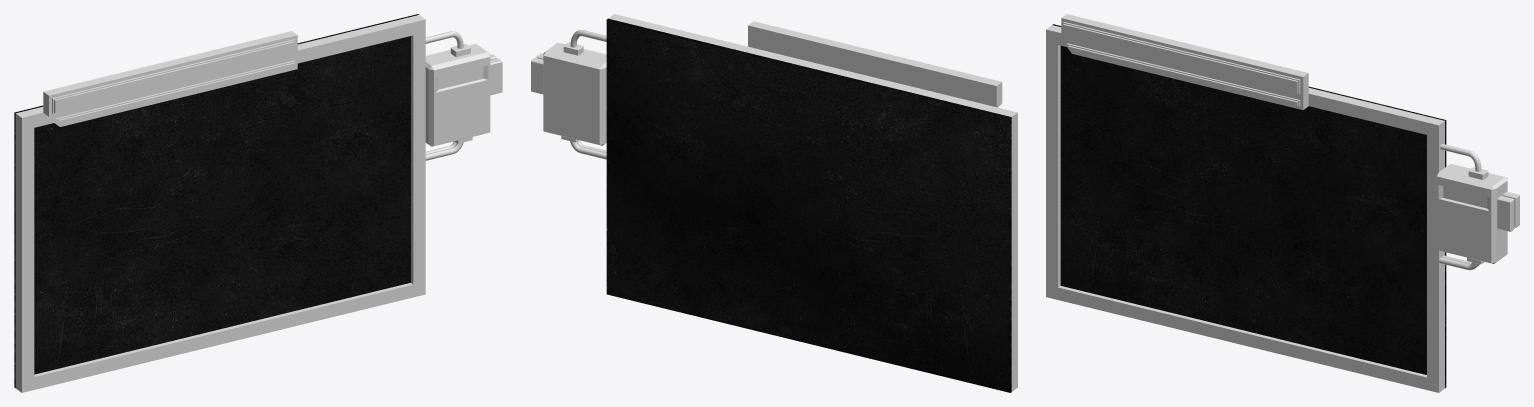
Rendered from Billboard1 fixed.fbx.
3 renders of one model, left to right at view 1: azimuth 30°, elevation 25°; view 2: azimuth 150°, elevation 25°; view 3: azimuth 330°, elevation 25°, orthographic. The views are drawn at different scales.
Visible parts, largest first — view 1: Main screen, Billboard 1, Billboard 1.002, Billboard 1.001, Billboard 1.003, Billboard 1.004, Billboard 1.005; view 2: Main screen, Billboard 1, Billboard 1.004; view 3: Main screen, Billboard 1, Billboard 1.002, Billboard 1.001, Billboard 1.003, Billboard 1.004, Billboard 1.005.
Boxes of the visible parts, left/top/right/bottom form: Main screen: left=14, top=14, right=418, bottom=387; Billboard 1: left=15, top=15, right=502, bottom=392; Billboard 1.002: left=55, top=42, right=295, bottom=113; Billboard 1.001: left=60, top=63, right=295, bottom=123; Billboard 1.003: left=53, top=40, right=295, bottom=124; Billboard 1.004: left=425, top=31, right=463, bottom=160; Billboard 1.005: left=438, top=67, right=483, bottom=89; Main screen: left=606, top=18, right=1011, bottom=392; Billboard 1: left=531, top=14, right=1017, bottom=391; Billboard 1.004: left=570, top=30, right=606, bottom=159; Main screen: left=1052, top=24, right=1446, bottom=388; Billboard 1: left=1046, top=14, right=1519, bottom=392; Billboard 1.002: left=1063, top=24, right=1297, bottom=93; Billboard 1.001: left=1068, top=46, right=1297, bottom=106; Billboard 1.003: left=1063, top=22, right=1299, bottom=106; Billboard 1.004: left=1439, top=144, right=1481, bottom=270; Billboard 1.005: left=1443, top=186, right=1487, bottom=208.
Bounding box in the file's own units: 226 × 134 × 15.82.
Materials: 1 (1 with a texture image).
